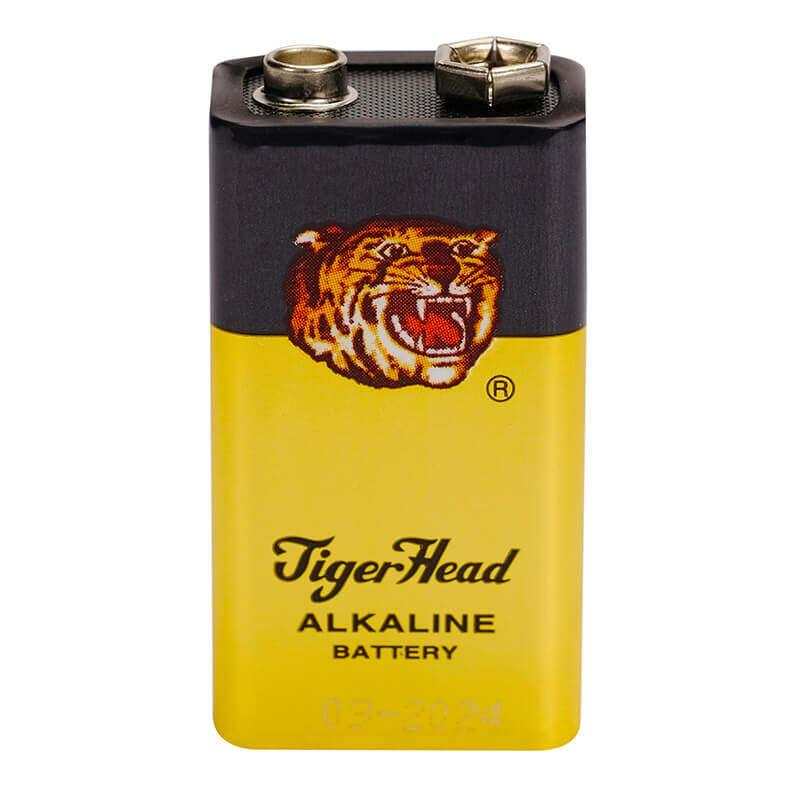9V: (200, 35, 593, 761)
